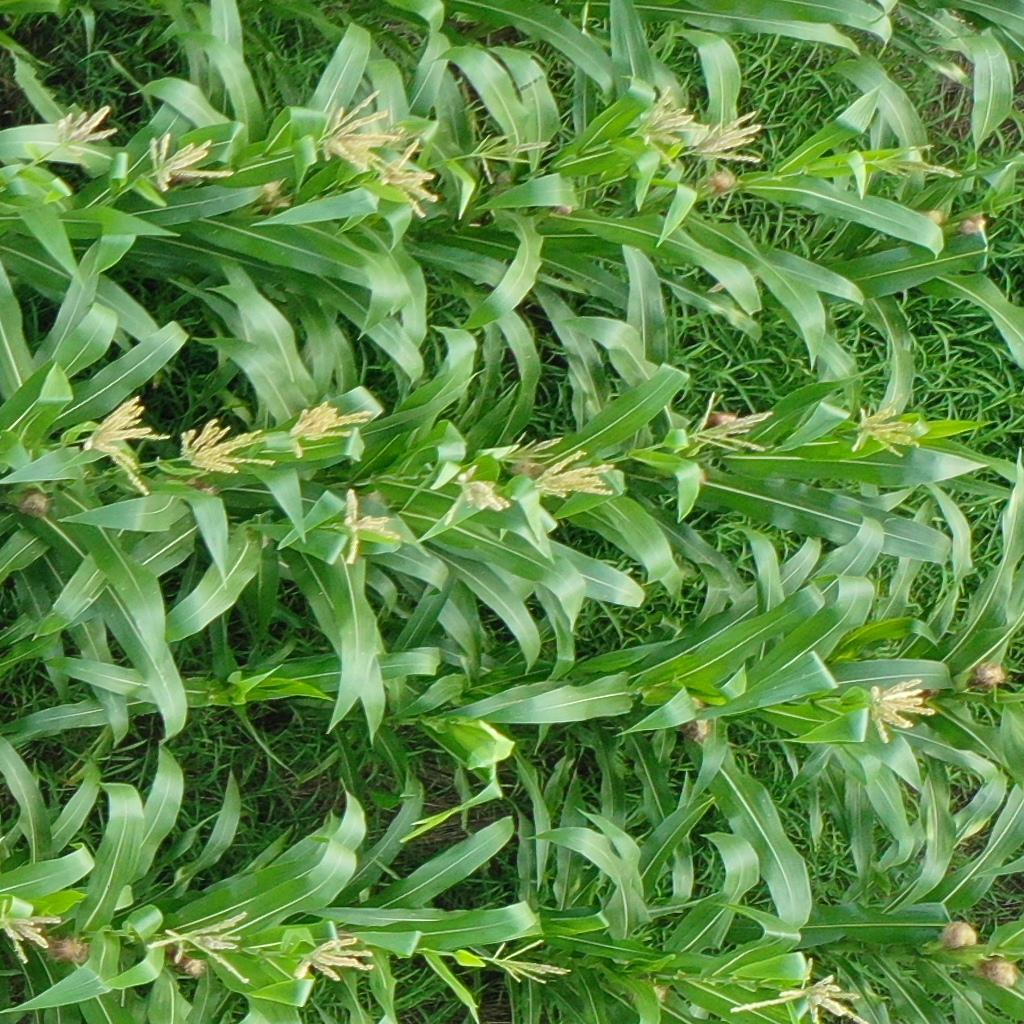Tassel: (725, 954, 876, 1024), (75, 397, 173, 498), (307, 90, 404, 176), (147, 912, 258, 984), (177, 417, 277, 480), (141, 129, 234, 196), (686, 389, 778, 455), (332, 484, 405, 565), (634, 85, 696, 175), (288, 930, 381, 989), (861, 676, 938, 745), (288, 400, 371, 463), (685, 109, 772, 169), (380, 139, 443, 219), (468, 129, 549, 190), (537, 448, 621, 505), (489, 935, 574, 990), (847, 402, 924, 461), (442, 461, 513, 522), (1, 899, 66, 965), (862, 141, 964, 182), (52, 105, 119, 167), (502, 430, 563, 469)
